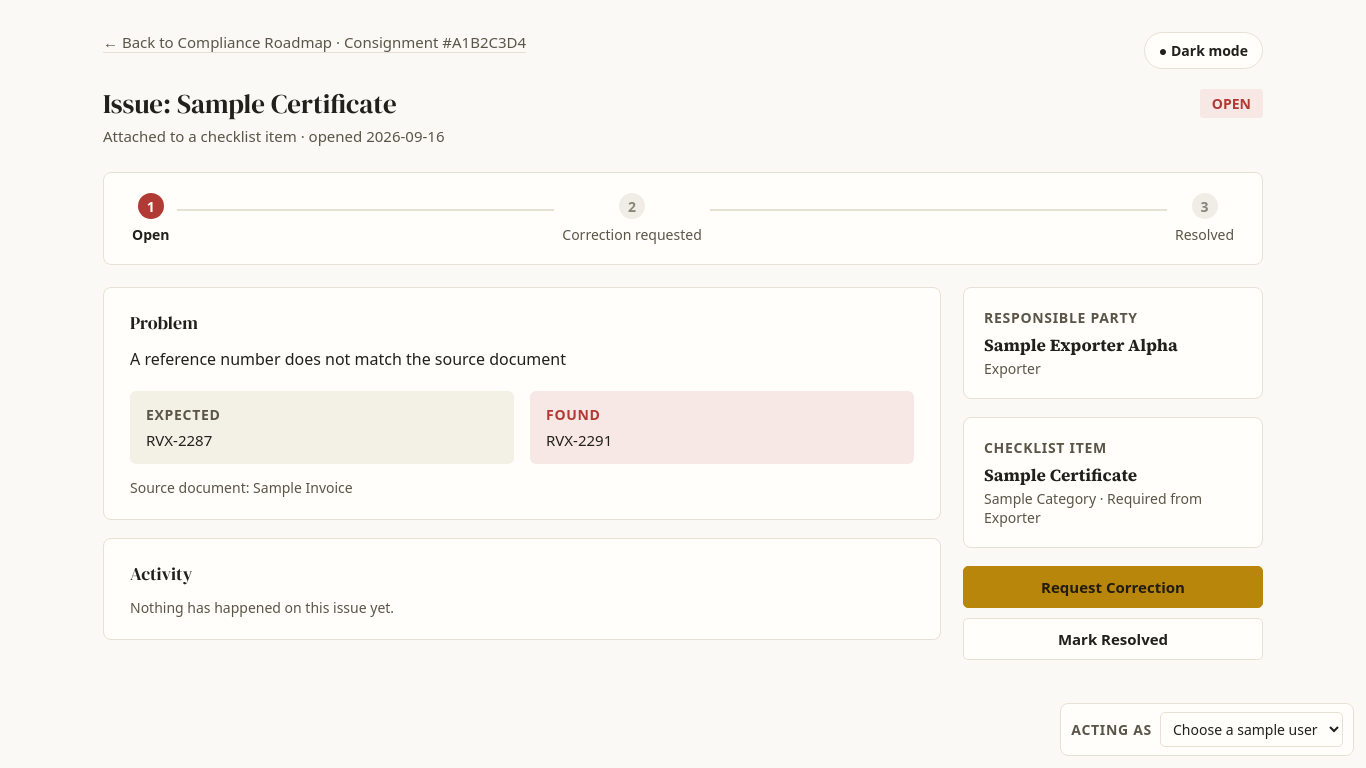
issue: requesting a correction › sends the message, closes, and shows the issue as it now stands, then refreshes what depends on it
Click the button "Request Correction" at (1113, 587), box [963, 566, 1263, 608]
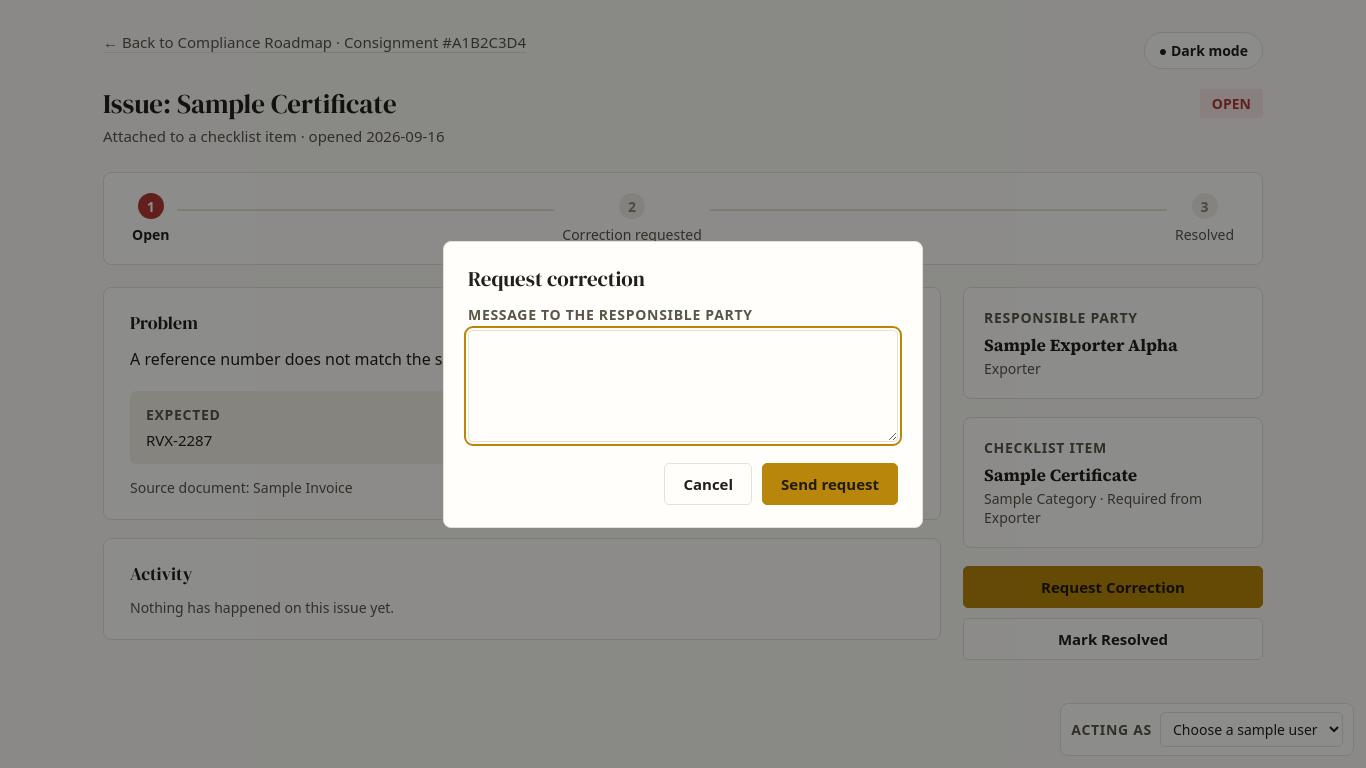
Type "  Please reissue  " into the text box labelled "Message to the responsible party" at (683, 386), box [468, 330, 898, 442]
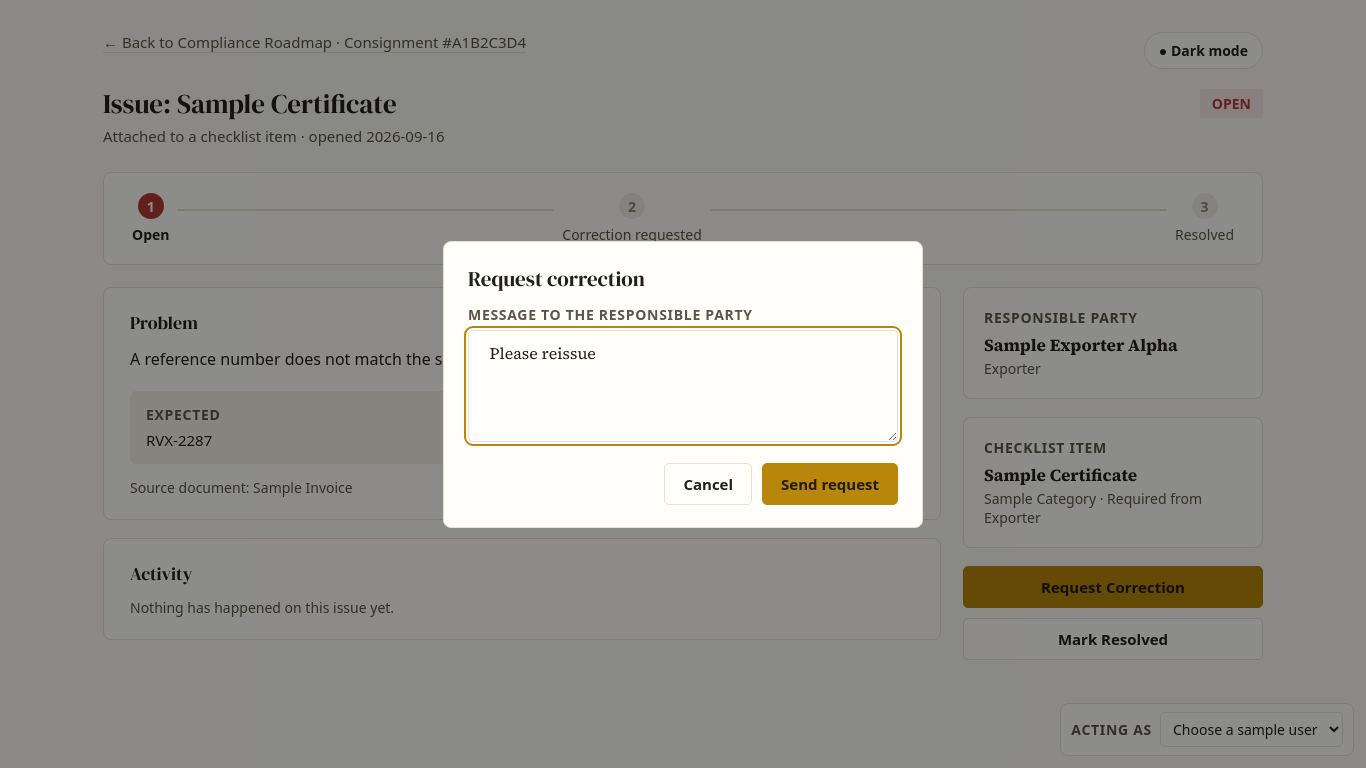
Click the button "Send request" at (830, 484), box [762, 462, 898, 504]
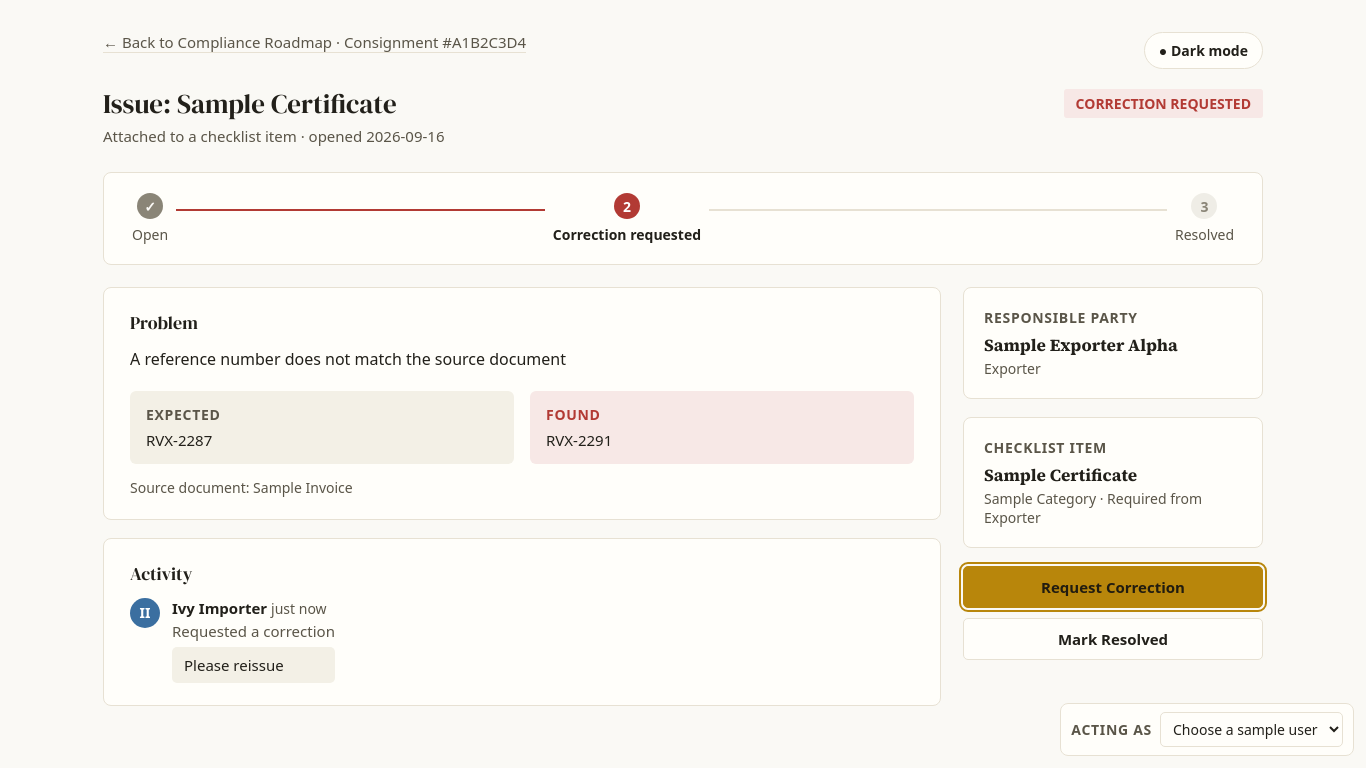
Check: the dialog is gone
Check: the text with class "is-status" reads "Correction requested", box [1076, 94, 1251, 113]
Check: the text "Please reissue" is shown, box [172, 647, 335, 683]
